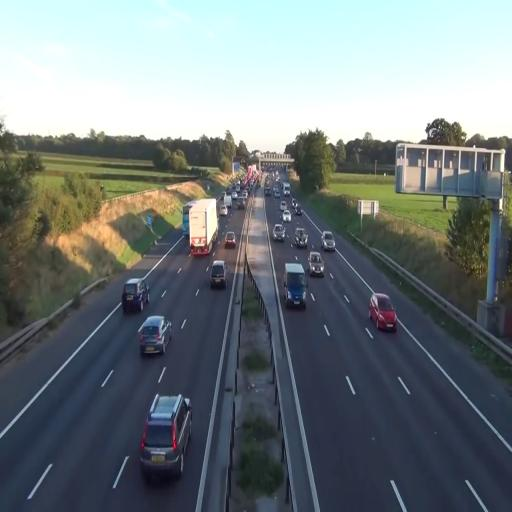vehicle: (140, 393, 192, 482), (188, 199, 218, 259), (138, 315, 172, 356), (368, 292, 397, 334), (284, 262, 307, 310), (122, 276, 148, 315), (208, 261, 228, 288), (308, 250, 324, 278), (294, 226, 308, 248), (321, 232, 336, 252), (223, 230, 237, 247), (274, 222, 286, 241)
